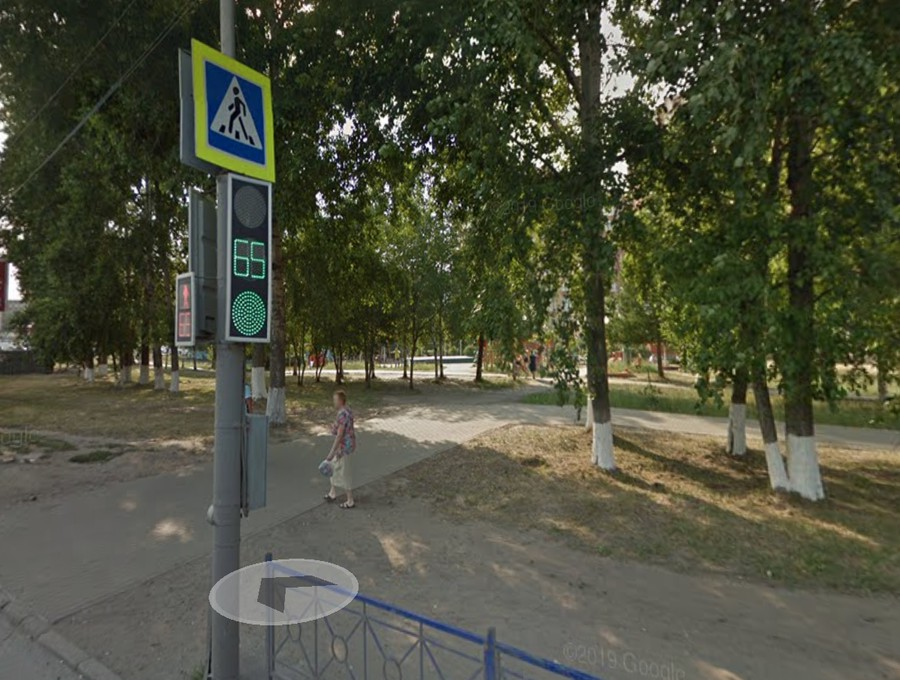Traffic Light-red: (165, 273, 198, 344)
